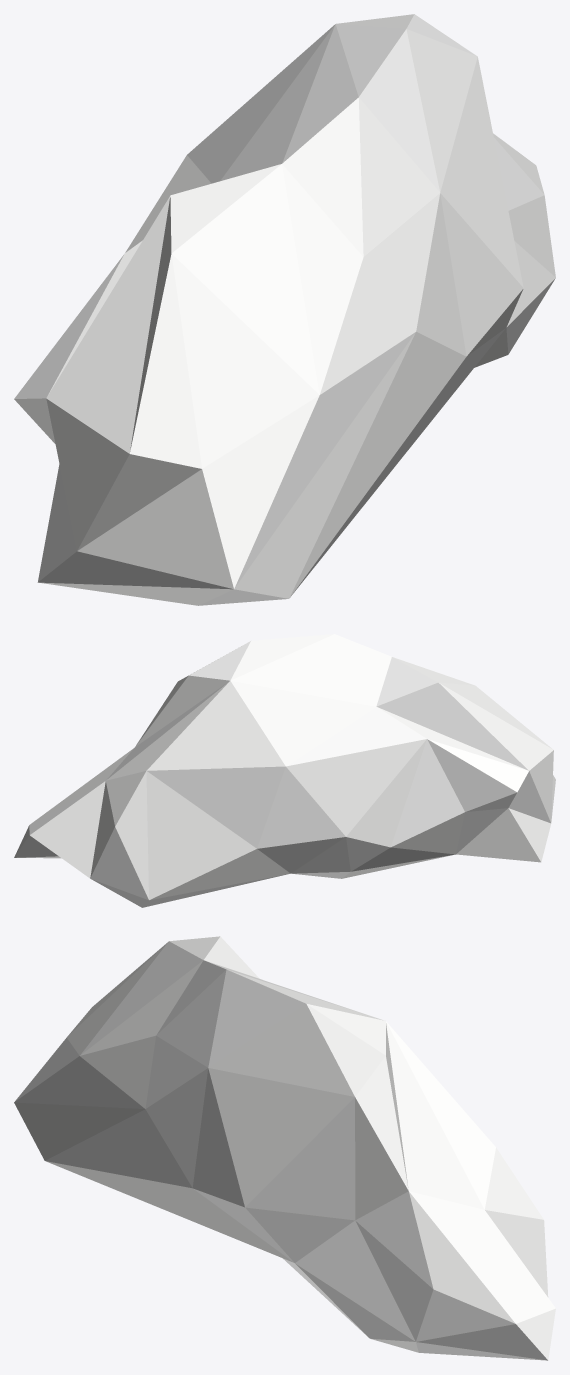
Rendered from Cloud_v24.fbx.
3 renders of one model, top to bottom at view 1: azimuth 30°, elevation 25°; view 2: azimuth 150°, elevation 25°; view 3: azimuth 270°, elevation 25°, orthographic. The views are drawn at different scales.
Parts seen in each view (by area): view 1: Cloud_v24; view 2: Cloud_v24; view 3: Cloud_v24.
Boxes of the visible parts, <box> form: Cloud_v24: <box>14,14,555,605</box>; Cloud_v24: <box>14,634,555,907</box>; Cloud_v24: <box>14,936,555,1360</box>.
Bounding box in the file's own units: 34.99 × 18.16 × 30.74.
1 material, 1 textured.
